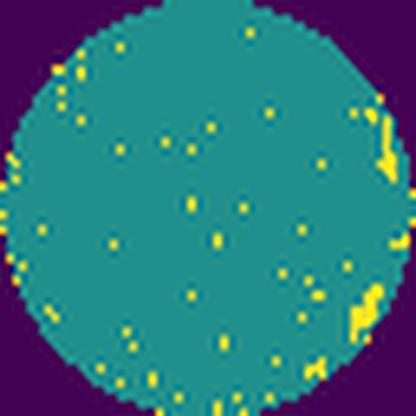Loc: (348, 280, 385, 346), (380, 113, 400, 186)
